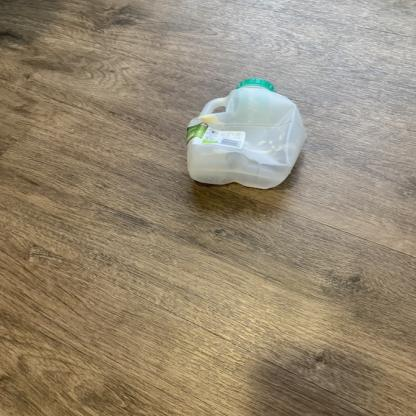trash: (185, 80, 310, 188)
